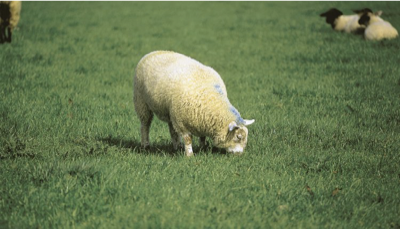koyun: (134, 48, 256, 157), (357, 11, 398, 39)
